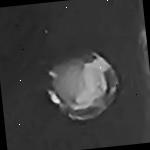colony: (38, 46, 128, 126)
